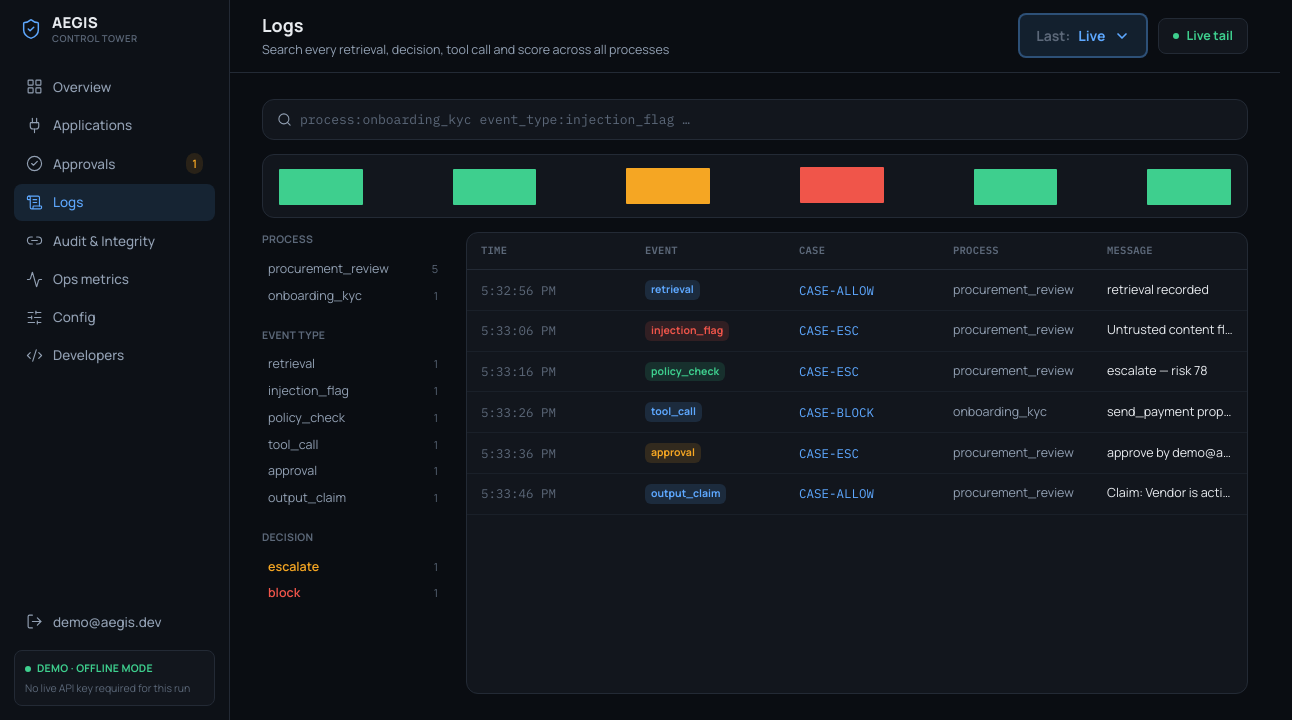
it: LogsPage › switches the quick range and resets a manual time selection made before it
The width and height of the screenshot is (1292, 720).
Expected: the text "injection_flag" below "Event type" is shown, [268,382,349,399]
Expected: the button with test id "quick-range-button" shows "Live", [1018,13,1148,58]
Press the mouse on the element with test id "hist-bar-0" at [321, 186], box [279,167,363,205]
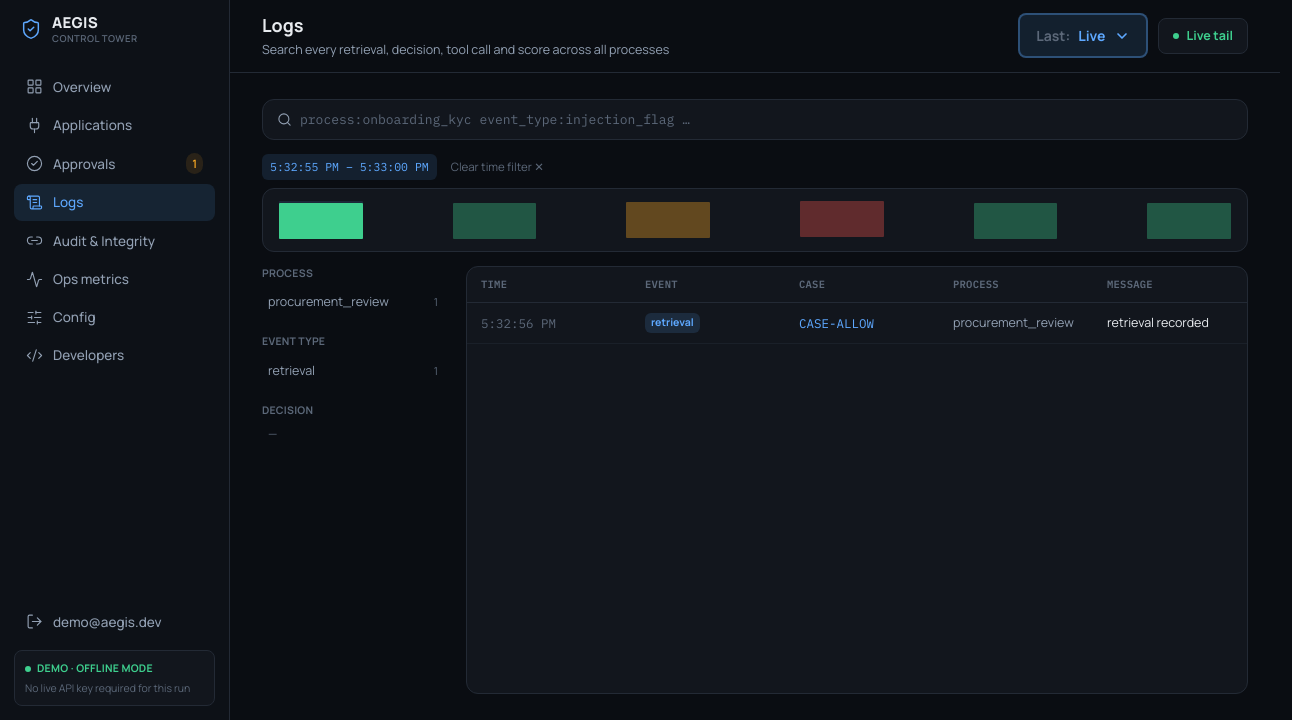
Now the element with test id "time-range-chip" is shown, box [262,154,550,180]
Click the button with test id "quick-range-button".
click(1083, 36)  # box [1018,13,1148,58]
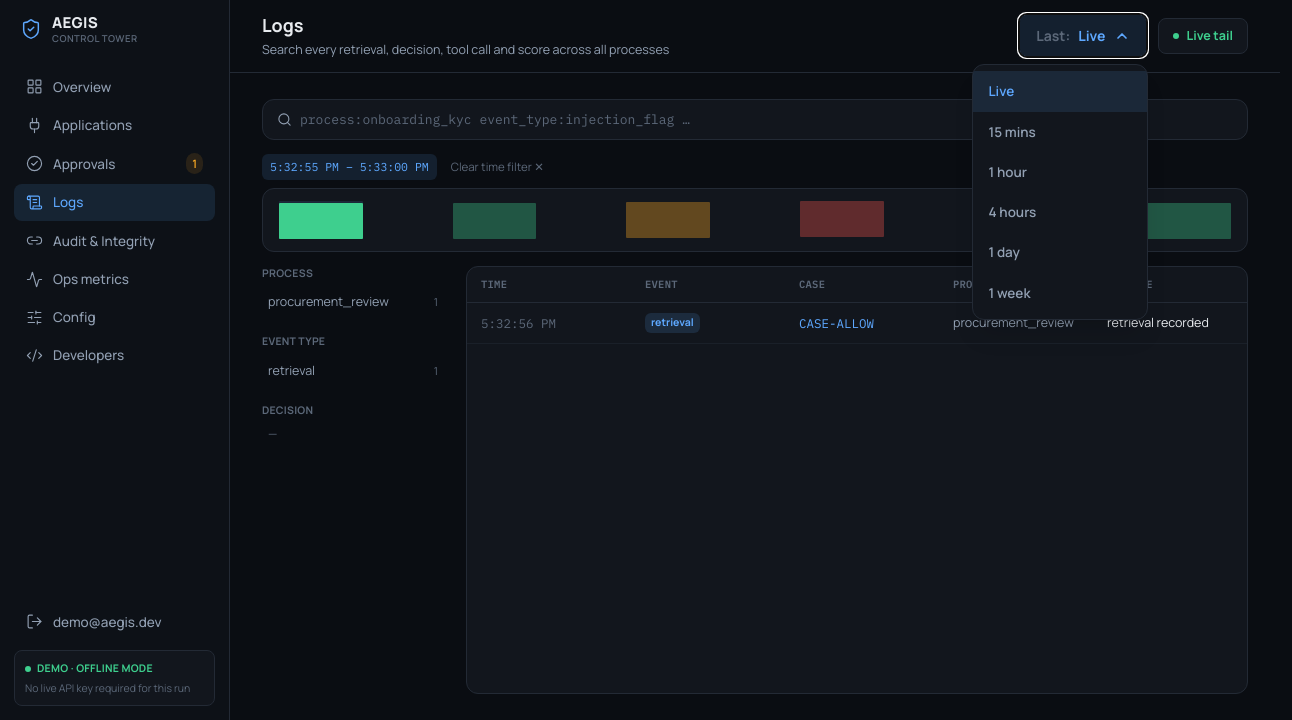
Click the button "1 hour".
click(1060, 172)  # box [972,152,1146,192]
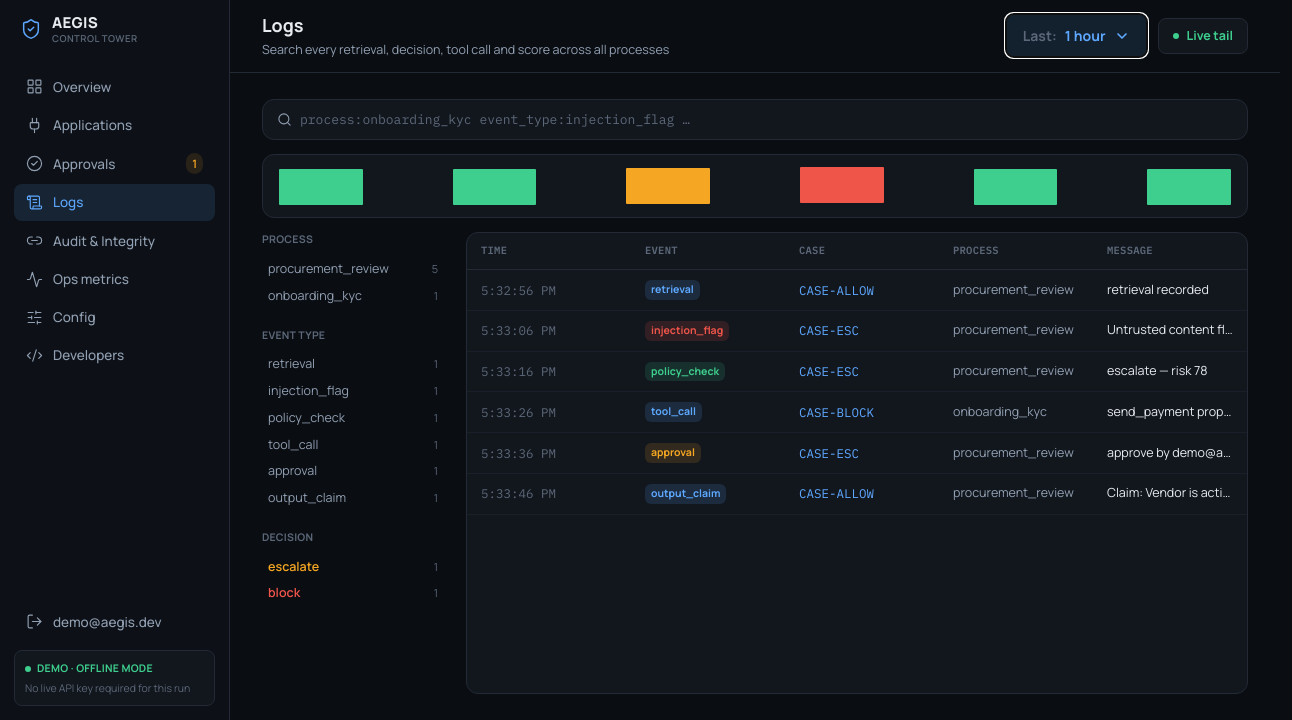
Now the button with test id "quick-range-button" shows "1 hour", box [1005,13,1148,58]
Now the element with test id "time-range-chip" is gone
